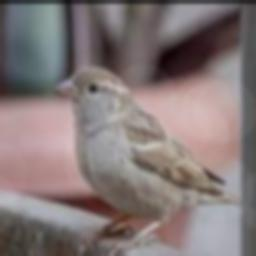Sparrow: (51, 65, 242, 256)
